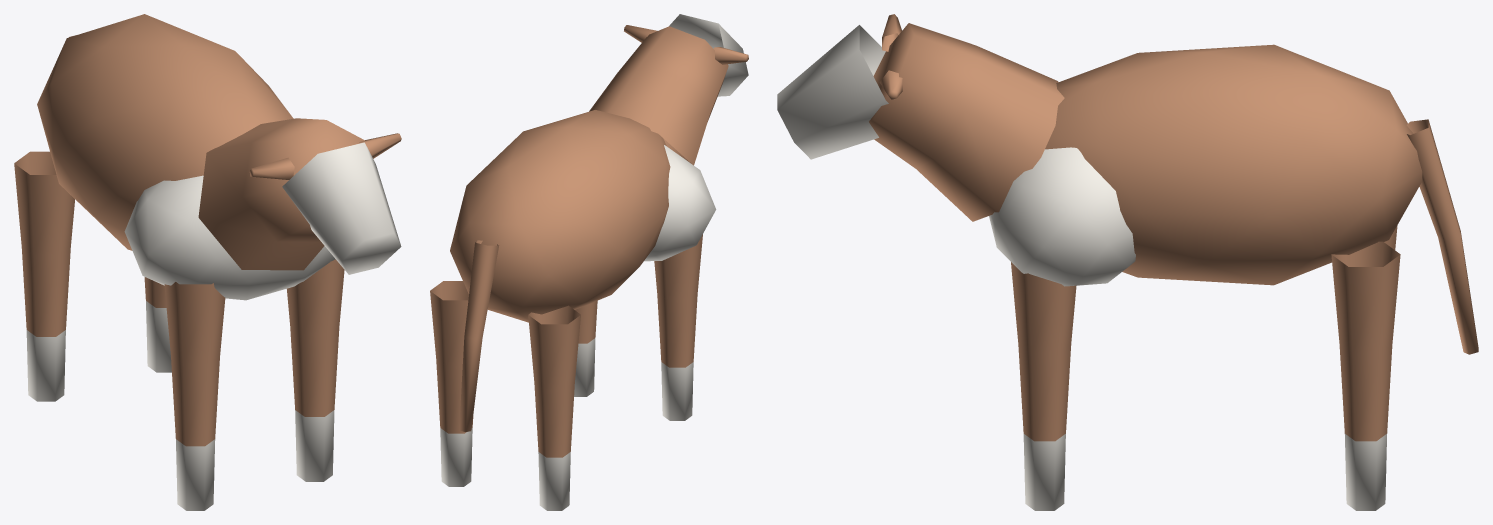
The model's file is cow_2.glb.
The picture shows the model from 3 angles, left to right: view 1: azimuth 30°, elevation 25°; view 2: azimuth 150°, elevation 25°; view 3: azimuth 270°, elevation 25°; orthographic projection. The views are drawn at different scales.
Visible parts, largest first — view 1: cow_2.glb; view 2: cow_2.glb; view 3: cow_2.glb.
Part boxes in pixels (x1,y1,x2,y2): cow_2.glb: (14,14,401,510); cow_2.glb: (430,14,748,510); cow_2.glb: (777,14,1478,510).
Size of the model in its own units: 0.752 by 1.38 by 1.99.
